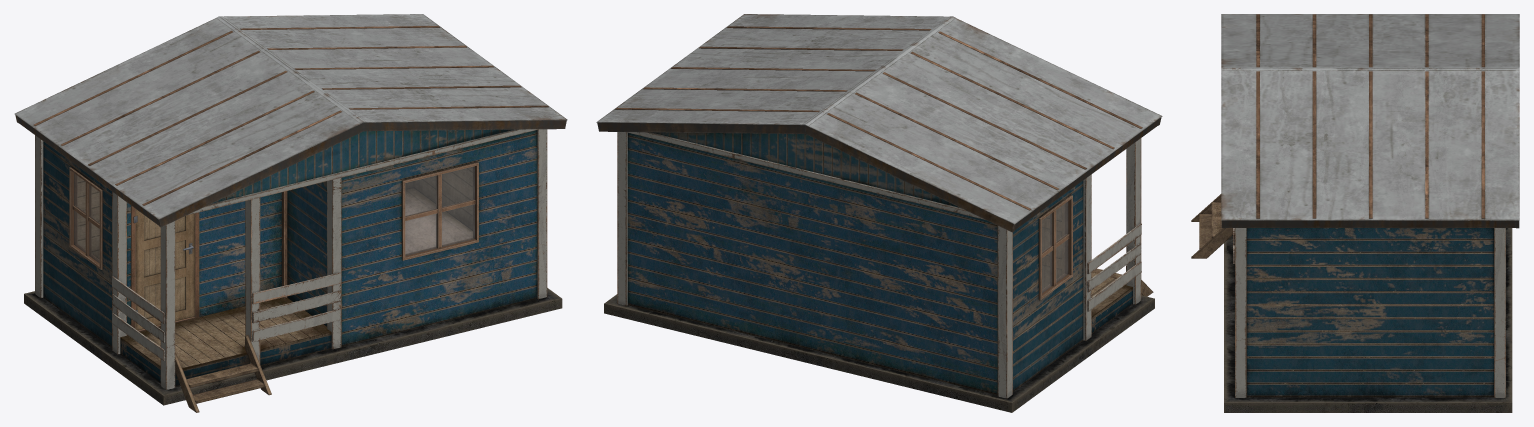
Rendered from worn_shed.glb.
The picture shows the model from 3 angles, left to right: view 1: azimuth 30°, elevation 25°; view 2: azimuth 150°, elevation 25°; view 3: azimuth 270°, elevation 25°; orthographic projection. The views are drawn at different scales.
Visible parts, largest first — view 1: Main, Door; view 2: Main, Door; view 3: Main.
Boxes of the visible parts, <box> form: Main: <box>14,14,567,412</box>; Door: <box>135,209,194,330</box>; Main: <box>596,14,1162,412</box>; Door: <box>1042,204,1064,289</box>; Main: <box>1191,14,1519,412</box>.
Size of the model in its own units: 644 by 355 by 434.
Materials: 6 (6 with a texture image).
